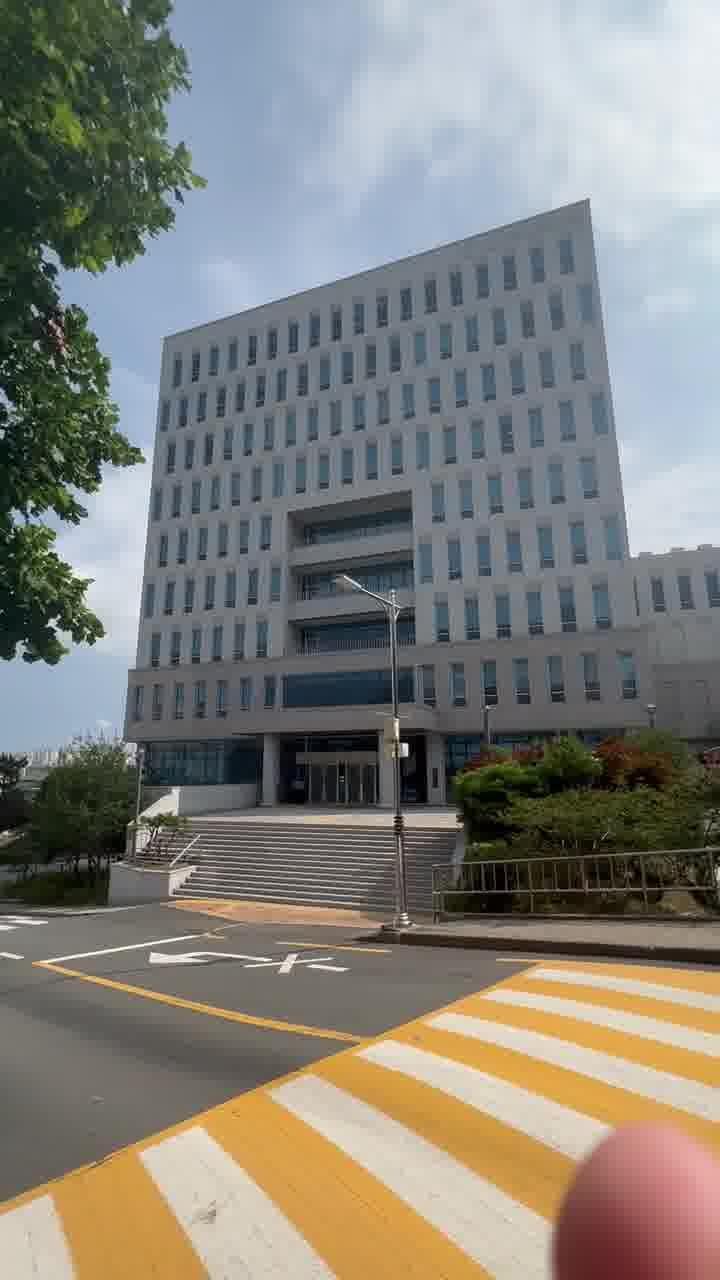building: (140, 236, 696, 740)
